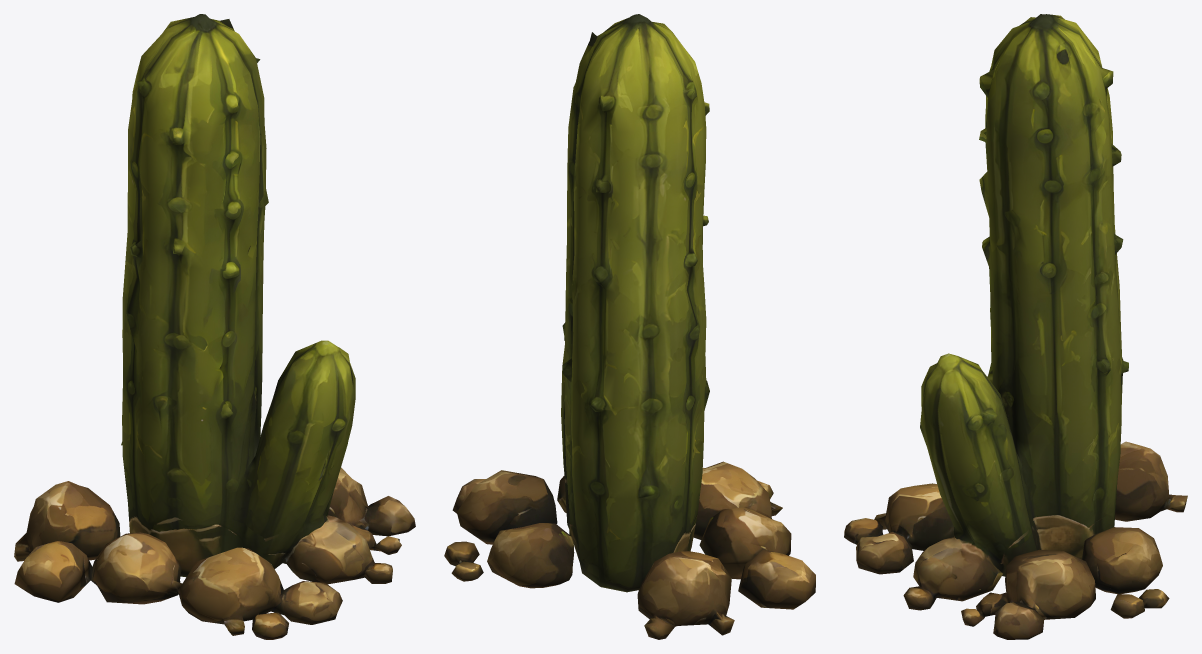
File: cactus_toon.fbx
The picture shows the model from 3 angles, left to right: view 1: azimuth 30°, elevation 25°; view 2: azimuth 150°, elevation 25°; view 3: azimuth 270°, elevation 25°; orthographic projection. The views are drawn at different scales.
Parts seen in each view (by area): view 1: tripo_node_e12a0a48; view 2: tripo_node_e12a0a48; view 3: tripo_node_e12a0a48.
Boxes of the visible parts, x1,y1,x2,y2 form: tripo_node_e12a0a48: (14, 14, 415, 639); tripo_node_e12a0a48: (444, 14, 815, 639); tripo_node_e12a0a48: (844, 14, 1187, 639).
Size of the model in its own units: 70.26 by 99.92 by 57.92.
1 material, 1 textured.
